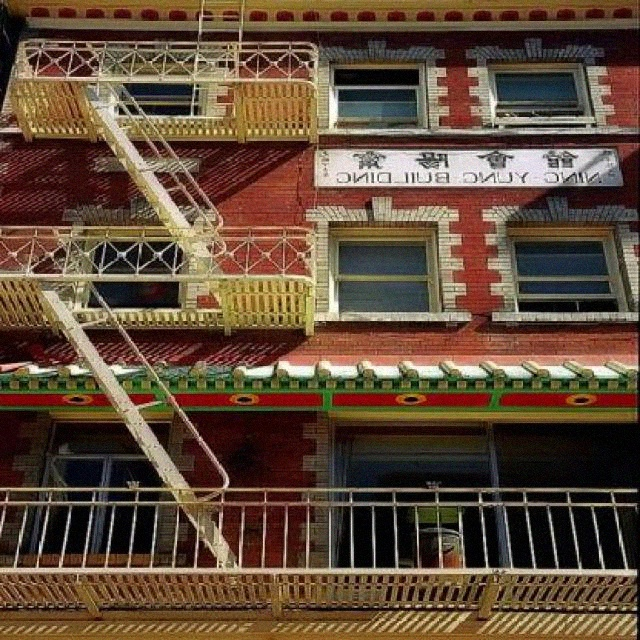stair: (37, 288, 238, 569), (88, 88, 226, 303)
